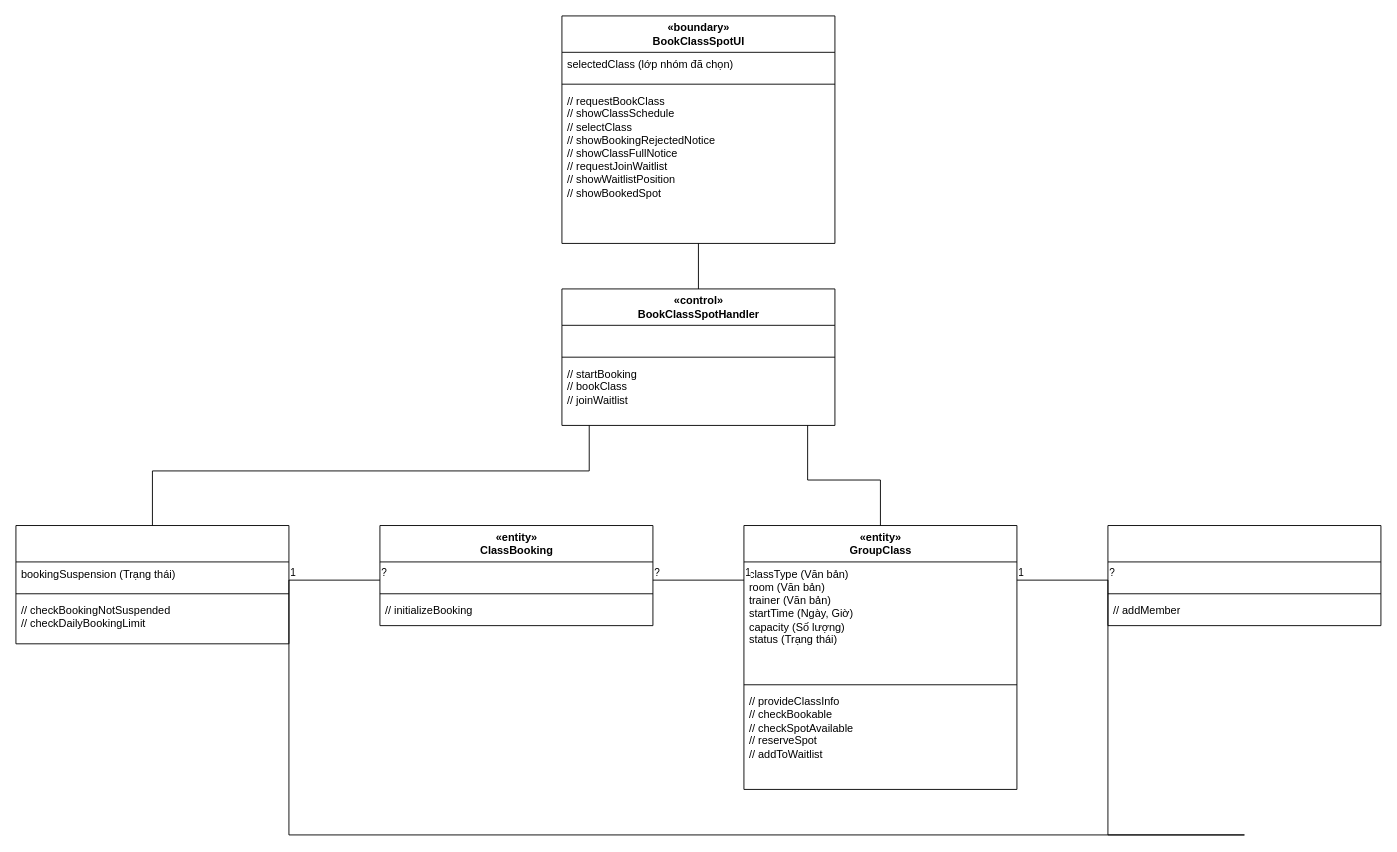
Some shapes in this 1397 by 852 pixel diagram are drawn without their labels. Each missing label, with the box of its shape:
«entity» Member: (15, 525, 289, 644)
«entity» Waitlist: (1107, 525, 1381, 626)
